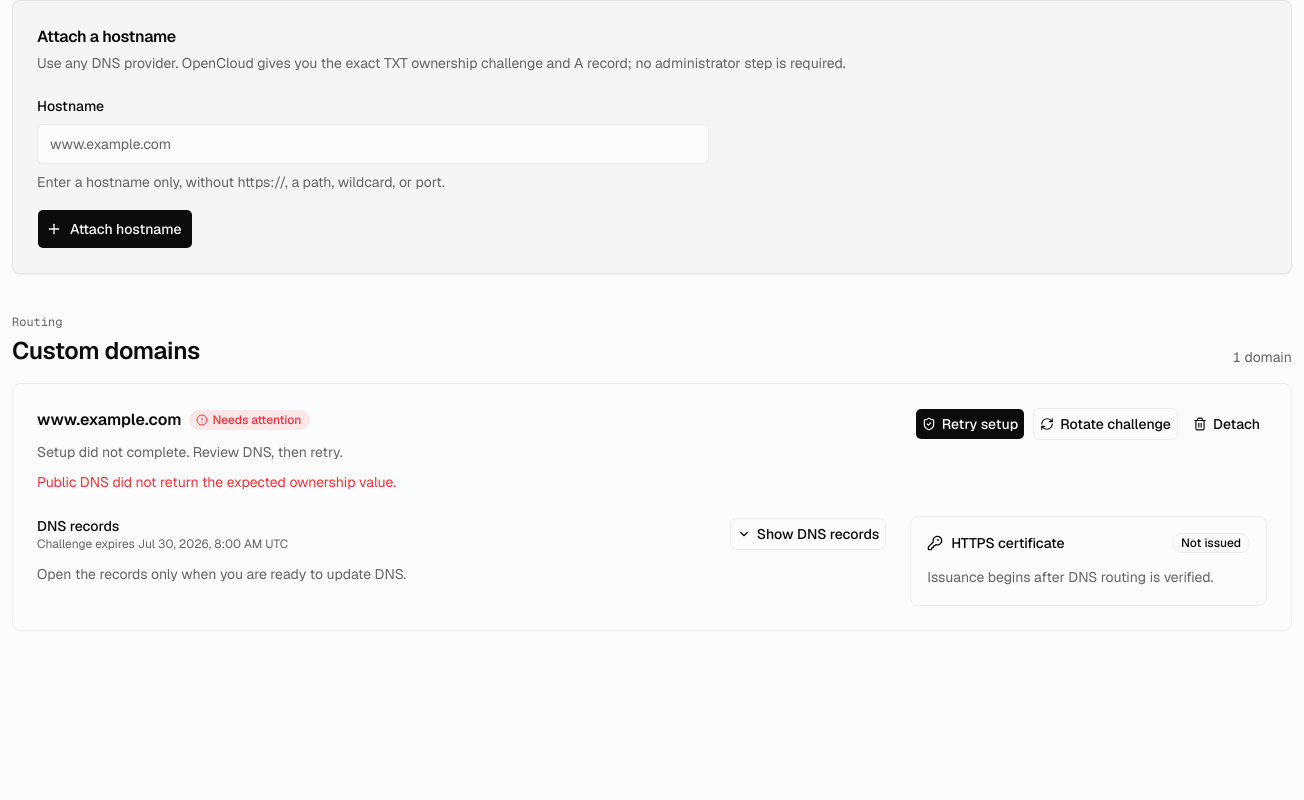
Test: DomainManager › shows a control-plane error when retry cannot be queued
The image size is (1304, 800).
Click the button "Retry setup" at (970, 424), box [915,408,1025,440]
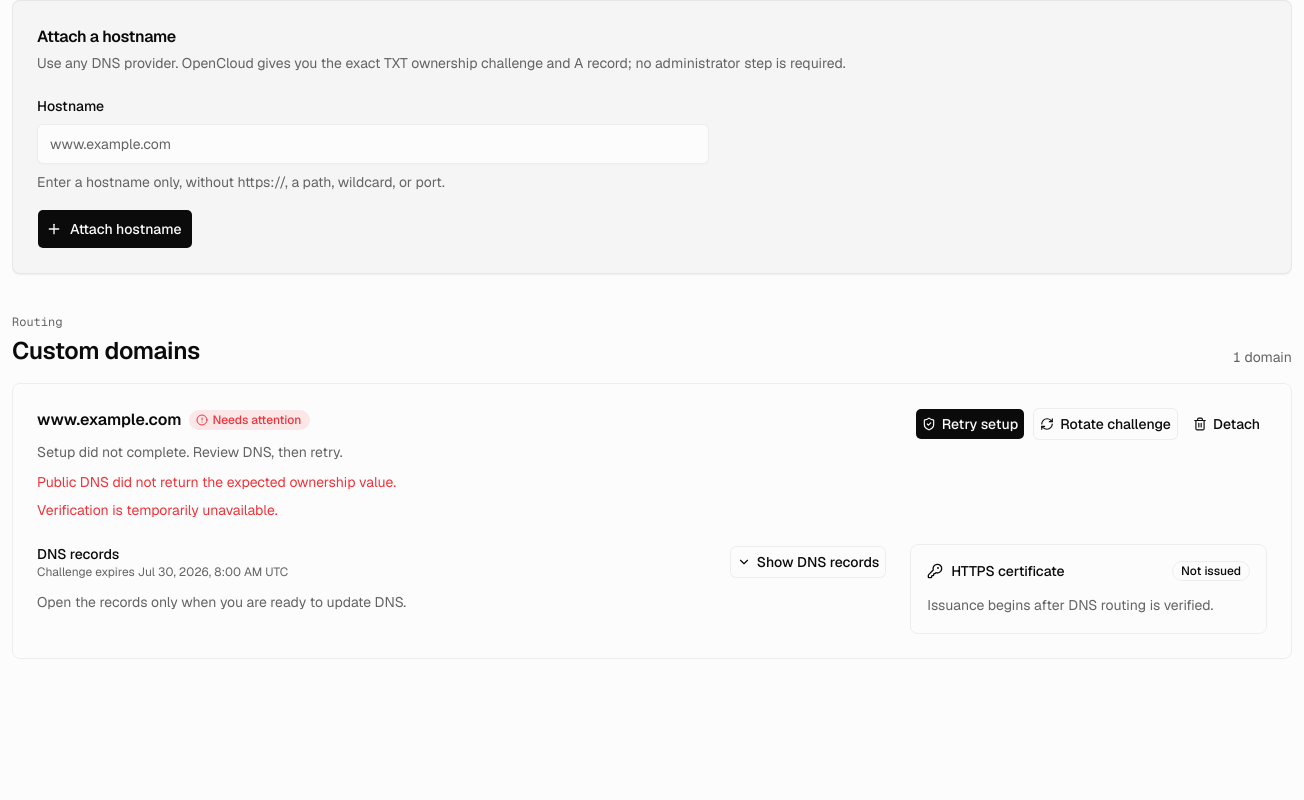
Expected: the text "Needs attention" is shown, [189,410,310,430]
Expected: the text "Verification is temporarily unavailable." is shown, [37,501,278,519]
